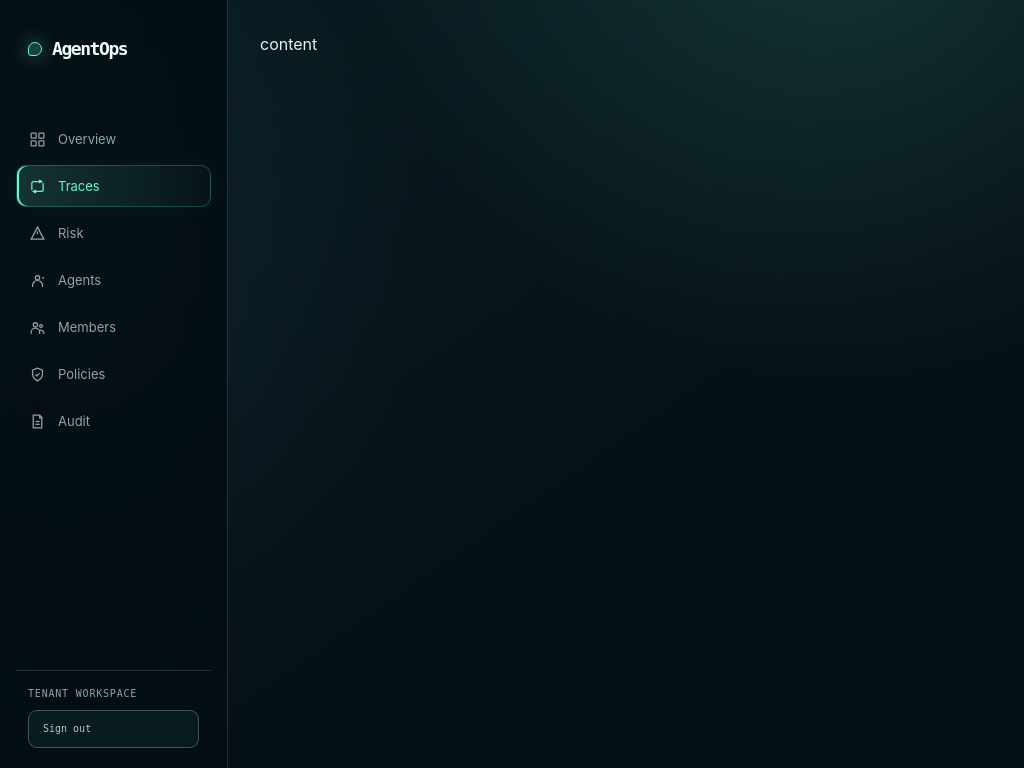
ConsoleShell › shows a bounded error when logout fails
Click the button "Sign out".
click(114, 729)  # box [28,710,199,748]
(page scrolled)
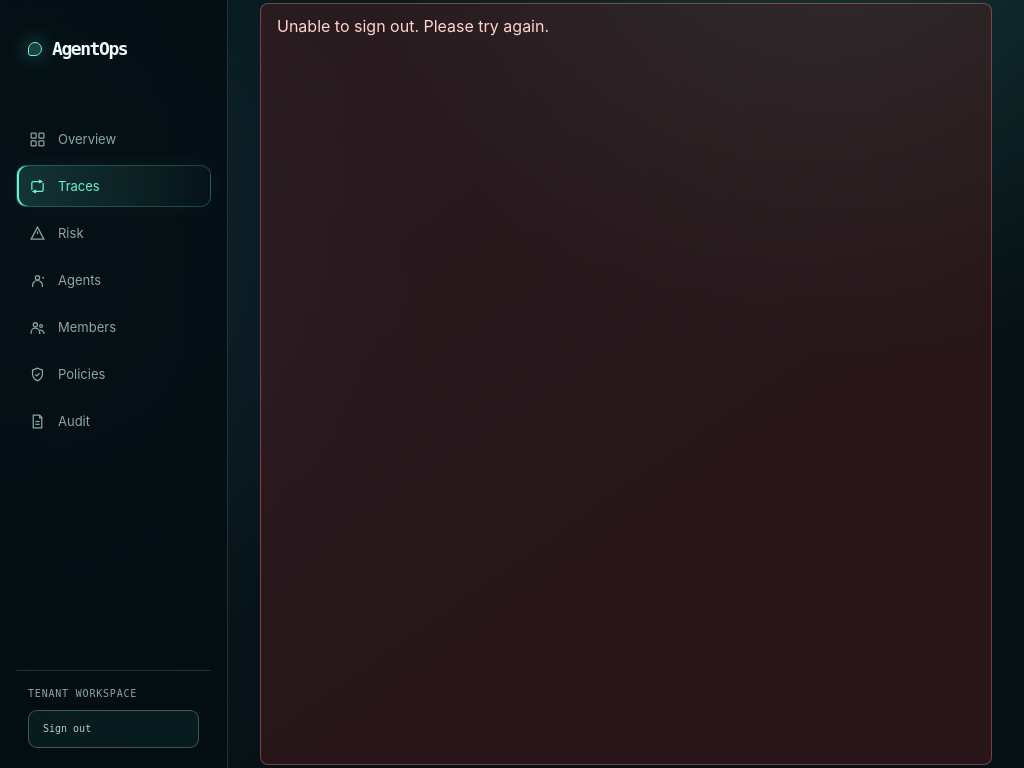
Result: the message reads "Unable to sign out. Please try again." at [277,16,549,36]
